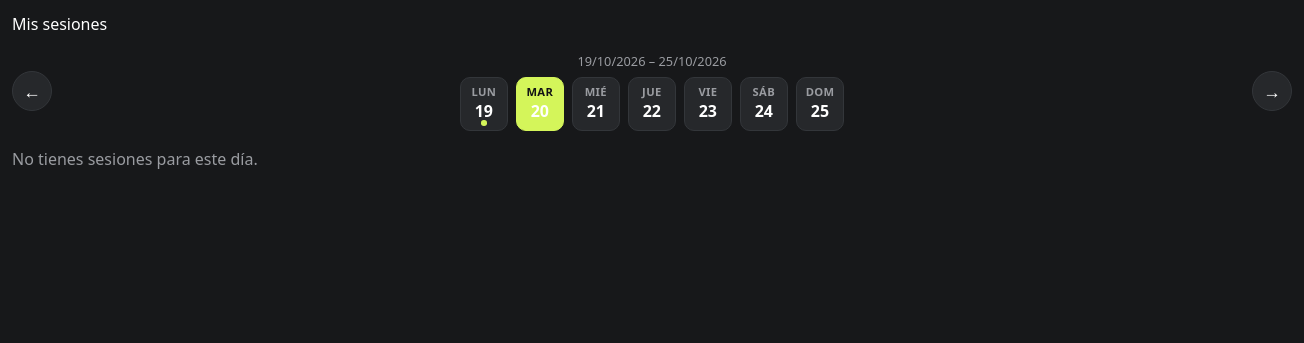
TrainerSessionsPage › muestra solo las clases del propio entrenador para el día elegido
Click the button "Lun 19" at [484, 104], box [460, 77, 508, 131]
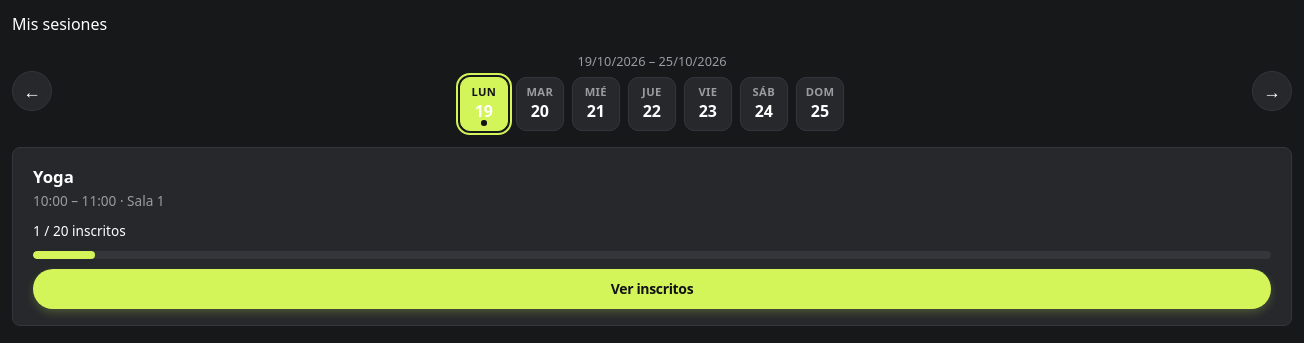
Check: the heading "Yoga" is shown, box [33, 165, 74, 188]
Check: the text "10:00 – 11:00 · Sala 1" is shown, box [33, 191, 165, 210]
